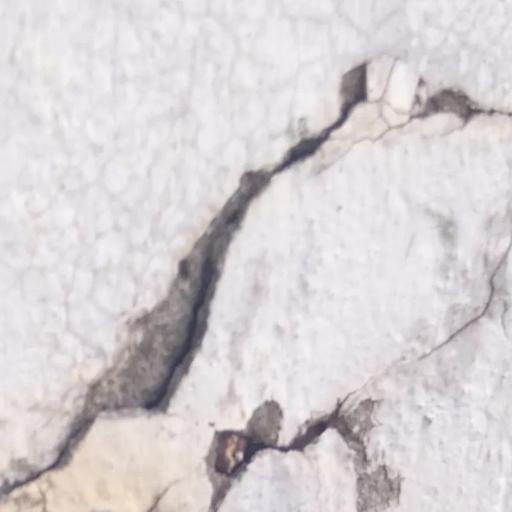major_crack: (16, 40, 510, 512)
